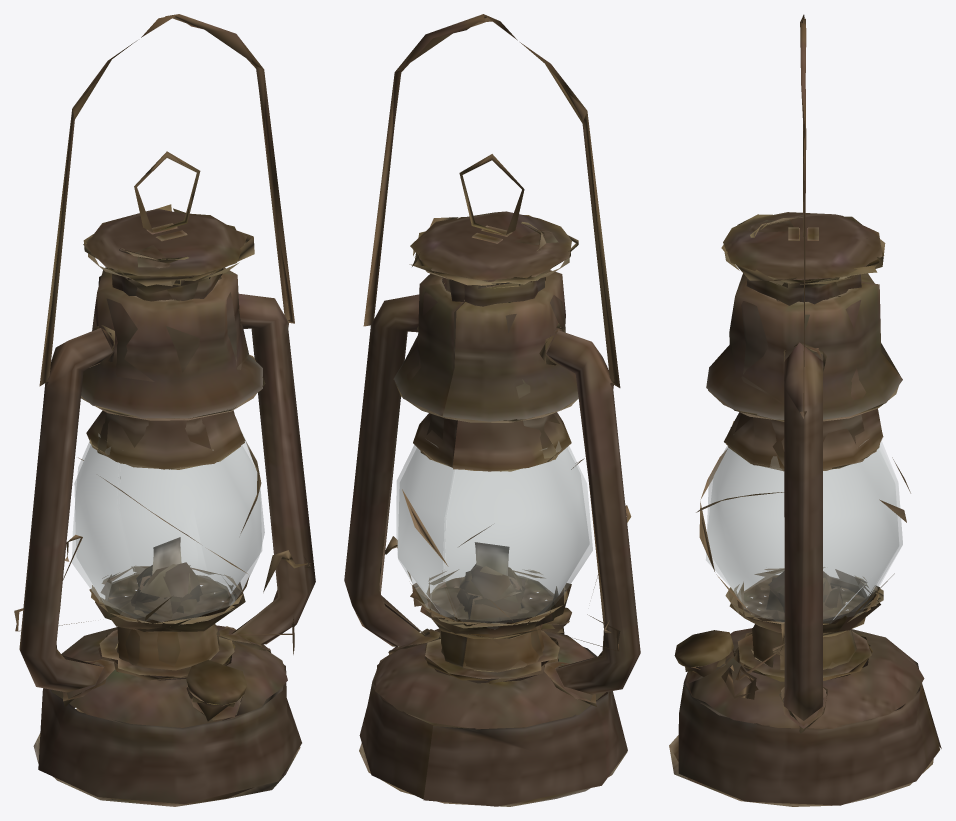
Rendered from lantern_brass.glb.
3 renders of one model, left to right at view 1: azimuth 30°, elevation 25°; view 2: azimuth 150°, elevation 25°; view 3: azimuth 270°, elevation 25°, orthographic.
Parts seen in each view (by area): view 1: Lantern_01, Lantern_01_glass; view 2: Lantern_01, Lantern_01_glass; view 3: Lantern_01, Lantern_01_glass.
Part boxes in pixels (bbox=[...]): Lantern_01: bbox=[14, 14, 315, 806]; Lantern_01_glass: bbox=[72, 429, 264, 621]; Lantern_01: bbox=[344, 14, 640, 806]; Lantern_01_glass: bbox=[396, 442, 592, 628]; Lantern_01: bbox=[669, 14, 941, 806]; Lantern_01_glass: bbox=[706, 440, 902, 624].
Bounding box in the file's own units: 0.1226 × 0.2928 × 0.0981.
2 materials, 1 textured.
